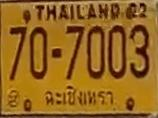0: (107, 24, 126, 78), (86, 25, 104, 78), (29, 26, 47, 78)
3: (129, 24, 149, 77)
7: (66, 26, 84, 79), (9, 26, 26, 78)
CCO: (40, 83, 120, 111)
